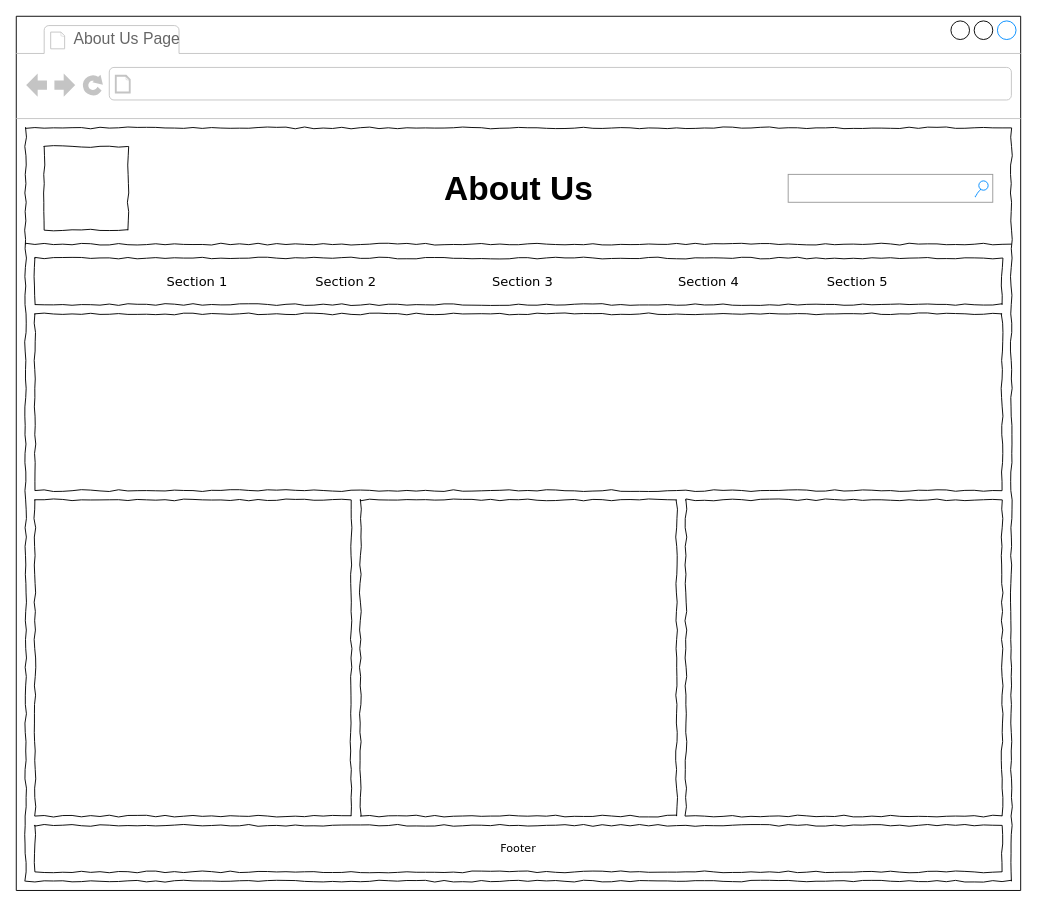
The diagram is 1037 pixels wide and 907 high, and some of its shapes have lost their labels. The shapes that lost their labels are listed below. From the top down, each one's centre as x and y in pixels, then its label:
[253,83]: https://nikozyl.github.io/JXU/aboutuspage
[85,188]: LOGO
